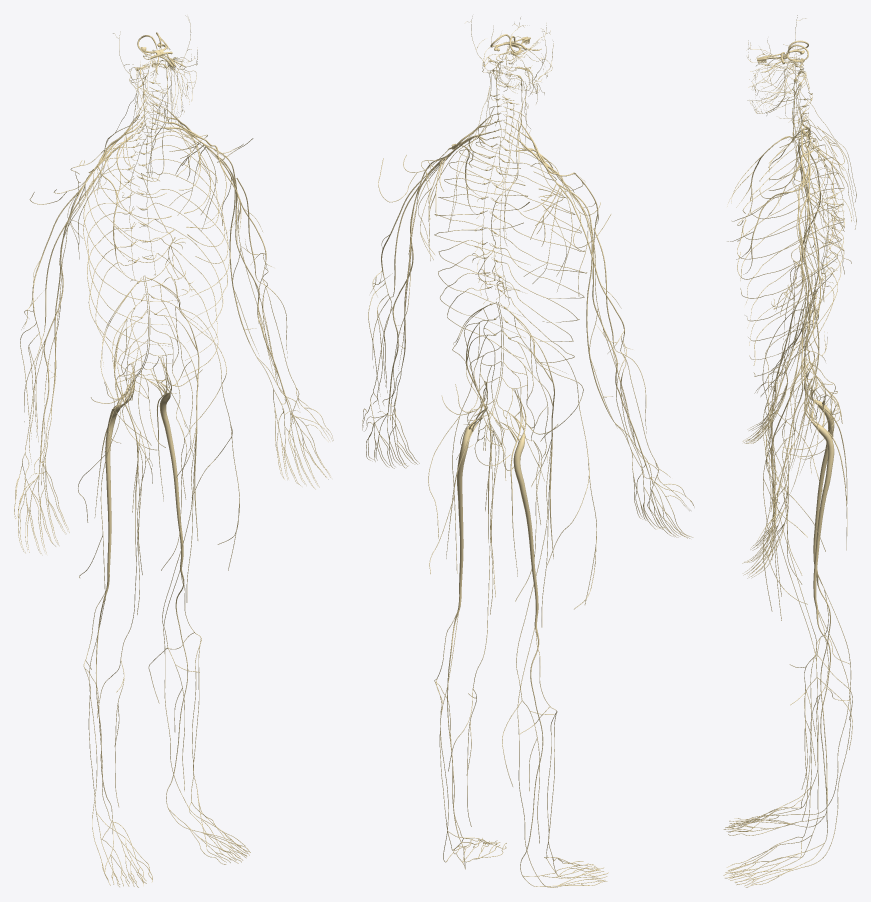
The model's file is nerves.glb.
3 renders of one model, left to right at view 1: azimuth 30°, elevation 25°; view 2: azimuth 150°, elevation 25°; view 3: azimuth 270°, elevation 25°, orthographic. The views are drawn at different scales.
Visible parts, largest first — view 1: Intercostal nerves.r, Intercostal nerves.l, Sciatic nerve.r, Sciatic nerve.l; view 2: Intercostal nerves.l, Intercostal nerves.r, Sciatic nerve.r, Sciatic nerve.l; view 3: Intercostal nerves.l, Intercostal nerves.r, Sciatic nerve.l, Sciatic nerve.r, Saphenous nerve.l, Saphenous nerve.r, Lateral femoral cutaneous nerve.l, Median nerve.l, Vagus nerve (X).r, Ulnar nerve.l, Lateral femoral cutaneous nerve.r, Femoral nerve.l (+8 smaller).
Boxes of the visible parts, x1,y1,x2,y2 form: Intercostal nerves.r: [83, 133, 175, 380]; Intercostal nerves.l: [143, 128, 230, 377]; Sciatic nerve.r: [105, 363, 134, 585]; Sciatic nerve.l: [149, 356, 183, 567]; Intercostal nerves.l: [434, 141, 529, 358]; Intercostal nerves.r: [496, 150, 587, 363]; Sciatic nerve.r: [500, 389, 538, 623]; Sciatic nerve.l: [457, 382, 486, 605]; Intercostal nerves.l: [737, 148, 844, 376]; Intercostal nerves.r: [737, 135, 844, 365]; Sciatic nerve.l: [804, 379, 834, 607]; Sciatic nerve.r: [804, 365, 834, 571]; Saphenous nerve.l: [768, 448, 852, 821]; Saphenous nerve.r: [769, 418, 852, 789]; Lateral femoral cutaneous nerve.l: [762, 334, 825, 611]; Median nerve.l: [776, 192, 809, 502]; Vagus nerve (X).r: [771, 70, 819, 315]; Ulnar nerve.l: [784, 185, 819, 473]; Lateral femoral cutaneous nerve.r: [762, 309, 825, 549]; Femoral nerve.l: [771, 314, 810, 559].
Size of the model in its own units: 0.6675 by 1.66 by 0.2426.
